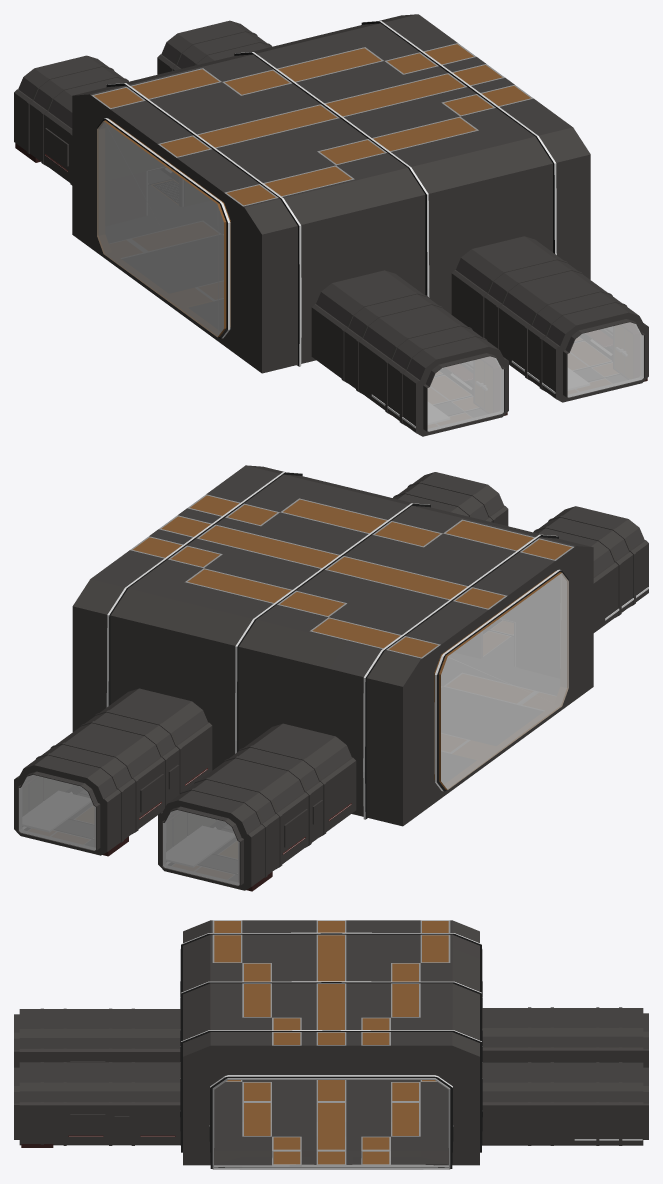
The model's file is SpaceShip (Newer).fbx.
3 views of the same model, one above another, from view 1: azimuth 30°, elevation 25°; view 2: azimuth 150°, elevation 25°; view 3: azimuth 270°, elevation 25° (orthographic). The views are drawn at different scales.
Visible parts, largest first — view 1: Cube, Shell.001, Shell.002, Shell, Window.002, Window.003, Shell.003; view 2: Cube, Shell, Shell.003, Shell.001, Window.001, Window.004, Shell.002; view 3: Cube, Shell.003, Shell.002, Shell, Shell.001.
Part boxes in pixels (left/top/right/bottom): Cube: left=72, top=14, right=590, bottom=373; Shell.001: left=314, top=272, right=508, bottom=436; Shell.002: left=454, top=238, right=648, bottom=402; Shell: left=14, top=55, right=128, bottom=185; Window.002: left=427, top=356, right=503, bottom=431; Window.003: left=567, top=322, right=643, bottom=397; Shell.003: left=157, top=20, right=271, bottom=74; Cube: left=72, top=465, right=593, bottom=826; Shell: left=158, top=725, right=353, bottom=890; Shell.003: left=14, top=690, right=209, bottom=855; Shell.001: left=533, top=506, right=648, bottom=632; Window.001: left=163, top=810, right=239, bottom=885; Window.004: left=19, top=775, right=95, bottom=850; Shell.002: left=393, top=472, right=508, bottom=525; Cube: left=180, top=920, right=482, bottom=1169; Shell.003: left=484, top=1062, right=648, bottom=1145; Shell.002: left=14, top=1062, right=178, bottom=1145; Shell: left=484, top=1007, right=648, bottom=1067; Shell.001: left=14, top=1008, right=178, bottom=1067.
Size of the model in its own units: 1965 by 846 by 3986.
